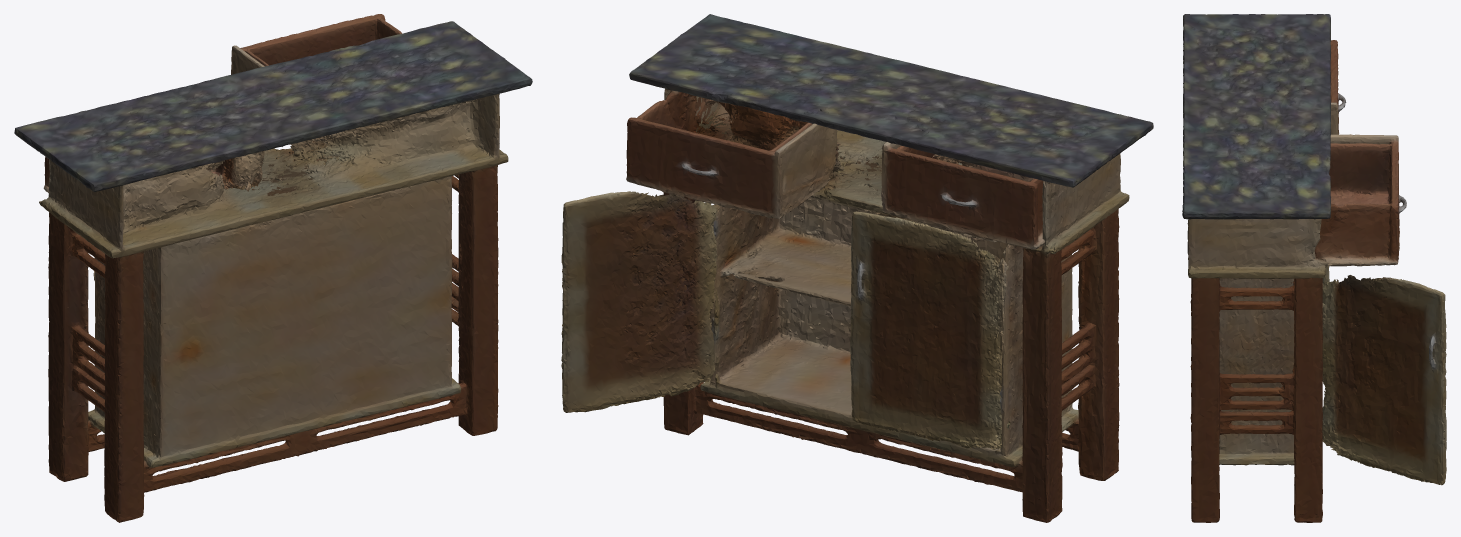
File: table_31249.glb
3 renders of one model, left to right at view 1: azimuth 30°, elevation 25°; view 2: azimuth 150°, elevation 25°; view 3: azimuth 270°, elevation 25°, orthographic. The views are drawn at different scales.
Parts seen in each view (by area): view 1: table_31249_start_0, table_31249_start_1, table_31249_start_4; view 2: table_31249_start_0, table_31249_start_2, table_31249_start_3, table_31249_start_1, table_31249_start_4; view 3: table_31249_start_0, table_31249_start_3, table_31249_start_1, table_31249_start_4.
Boxes of the visible parts, <box> form: table_31249_start_0: <box>14,21,532,522</box>; table_31249_start_1: <box>231,14,401,146</box>; table_31249_start_4: <box>43,151,264,193</box>; table_31249_start_0: <box>629,14,1153,522</box>; table_31249_start_2: <box>850,211,1010,450</box>; table_31249_start_3: <box>561,191,719,412</box>; table_31249_start_1: <box>626,100,837,218</box>; table_31249_start_4: <box>881,142,1044,249</box>; table_31249_start_0: <box>1182,14,1338,522</box>; table_31249_start_3: <box>1322,275,1446,485</box>; table_31249_start_1: <box>1314,134,1406,266</box>; table_31249_start_4: <box>1330,40,1346,134</box>.
Bounding box in the file's own units: 1.65 × 1.24 × 0.9147.
